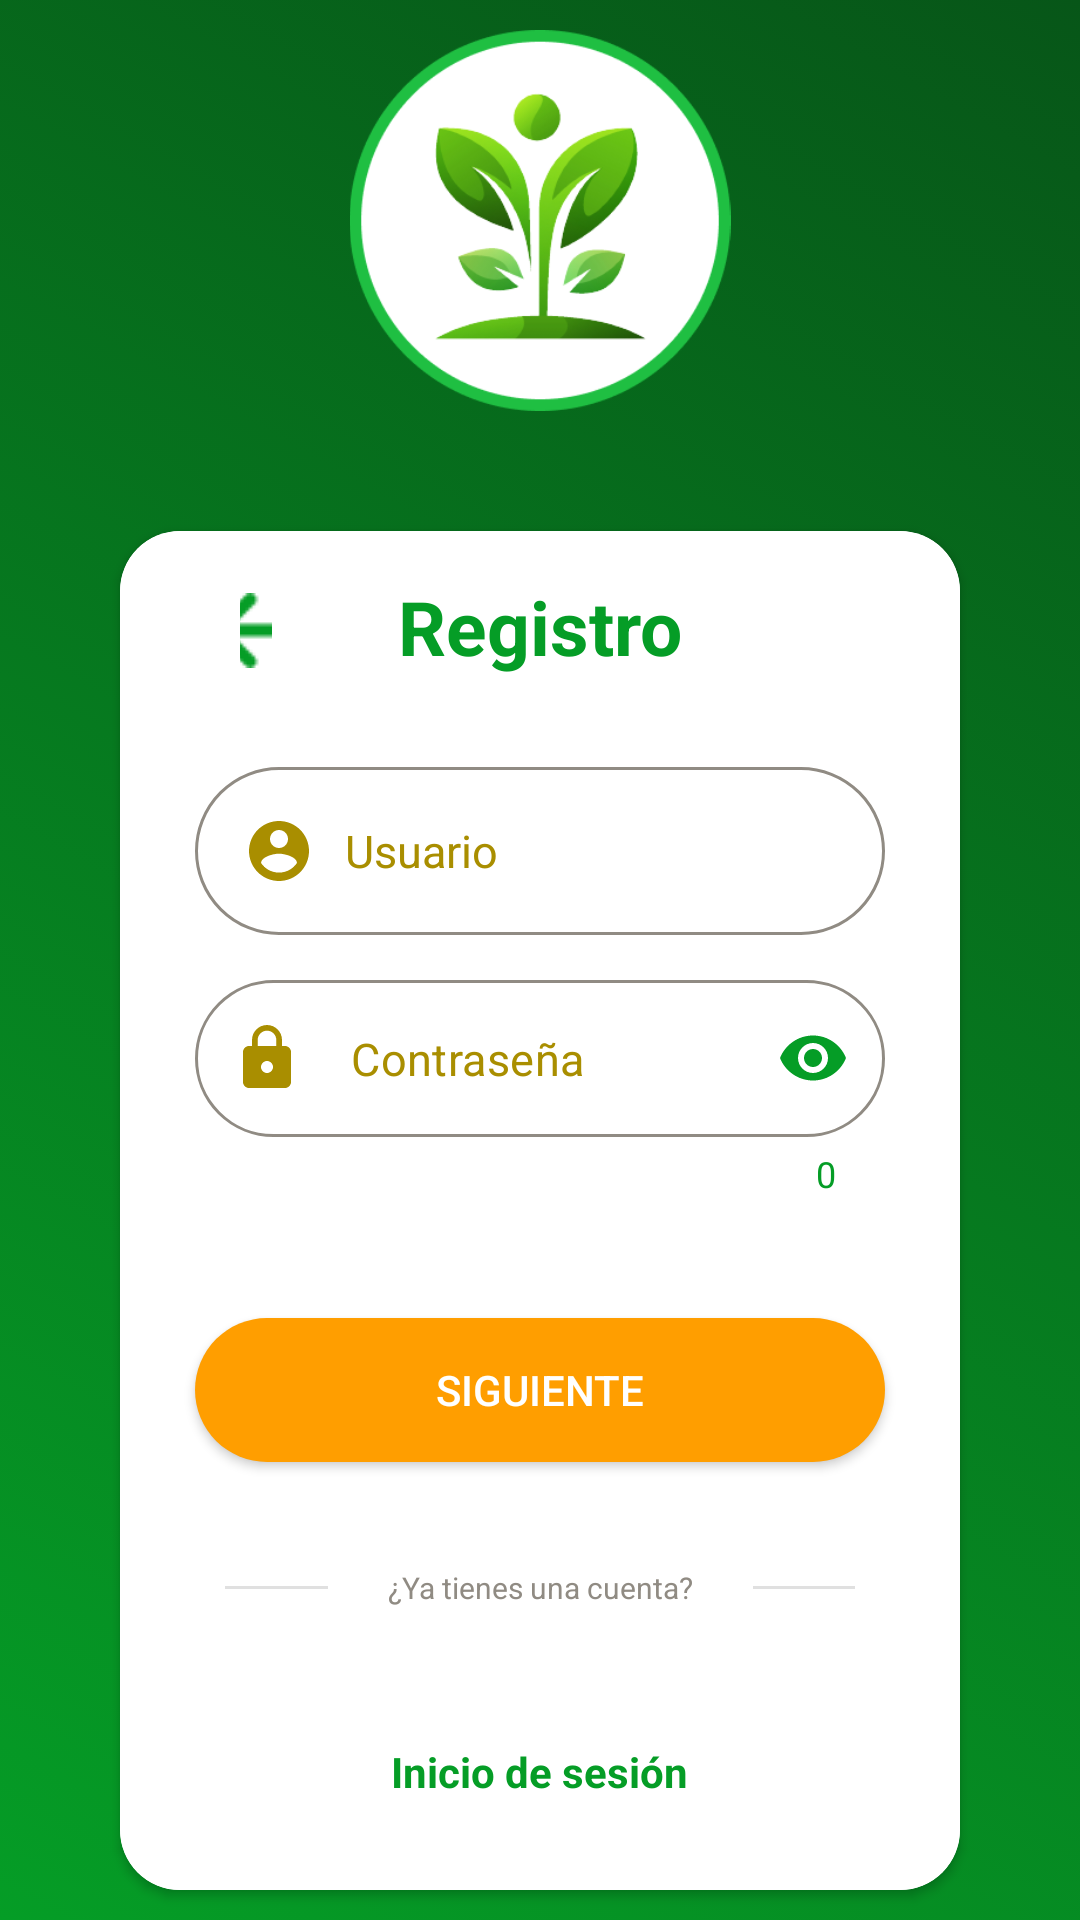

Icon bounding boxes for this 1080x1920 phone screenshot, format {"left": x1, "top": y1, "right": x2, "bottom": y2}:
vectorback: {"left": 240, "top": 593, "right": 272, "bottom": 668}
